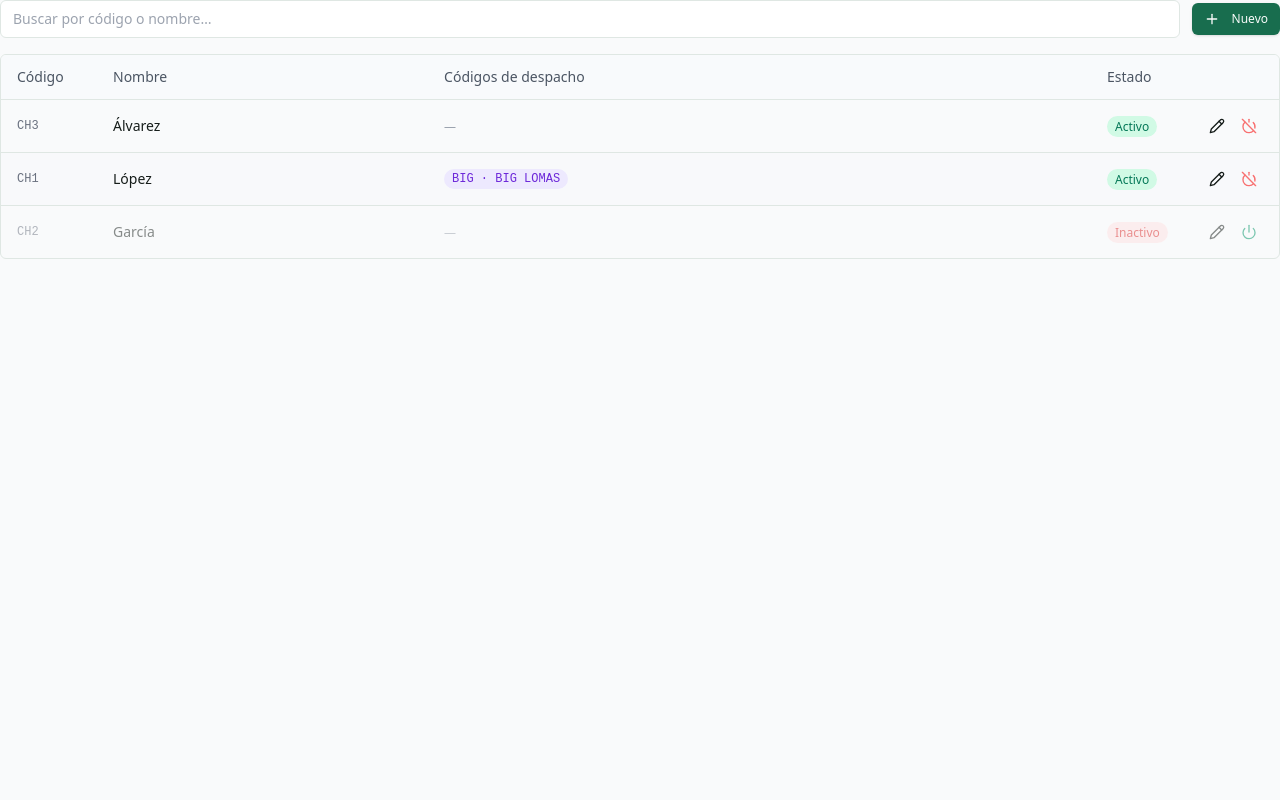
Test: ChoferesTab › el lápiz abre el modal de edición con los datos del chofer
Click the button titled "Editar" in the row of "CH3": {"x": 1217, "y": 126} left=1203, top=112, right=1231, bottom=140
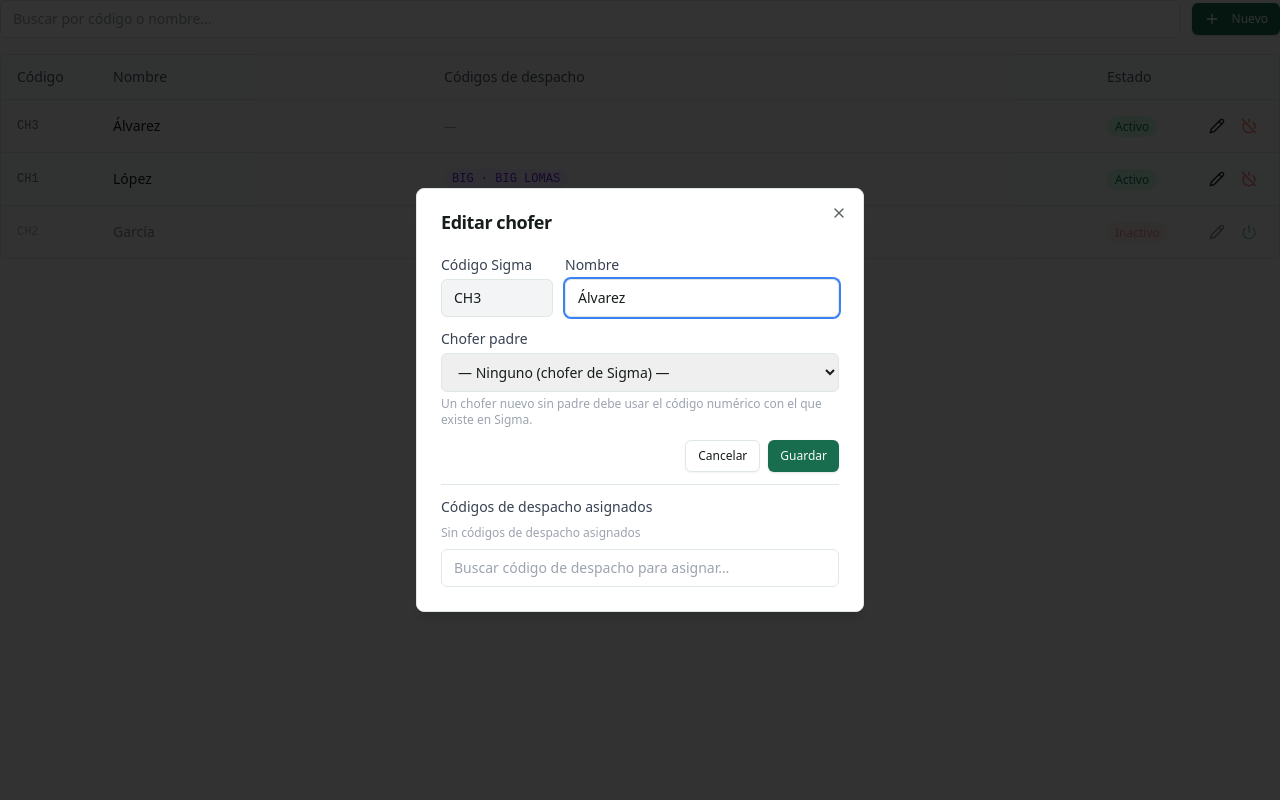
Check: the heading "Editar chofer" is shown, box left=441, top=210, right=552, bottom=234
Check: the 2nd field showing "Álvarez" is shown, box left=565, top=279, right=839, bottom=317
